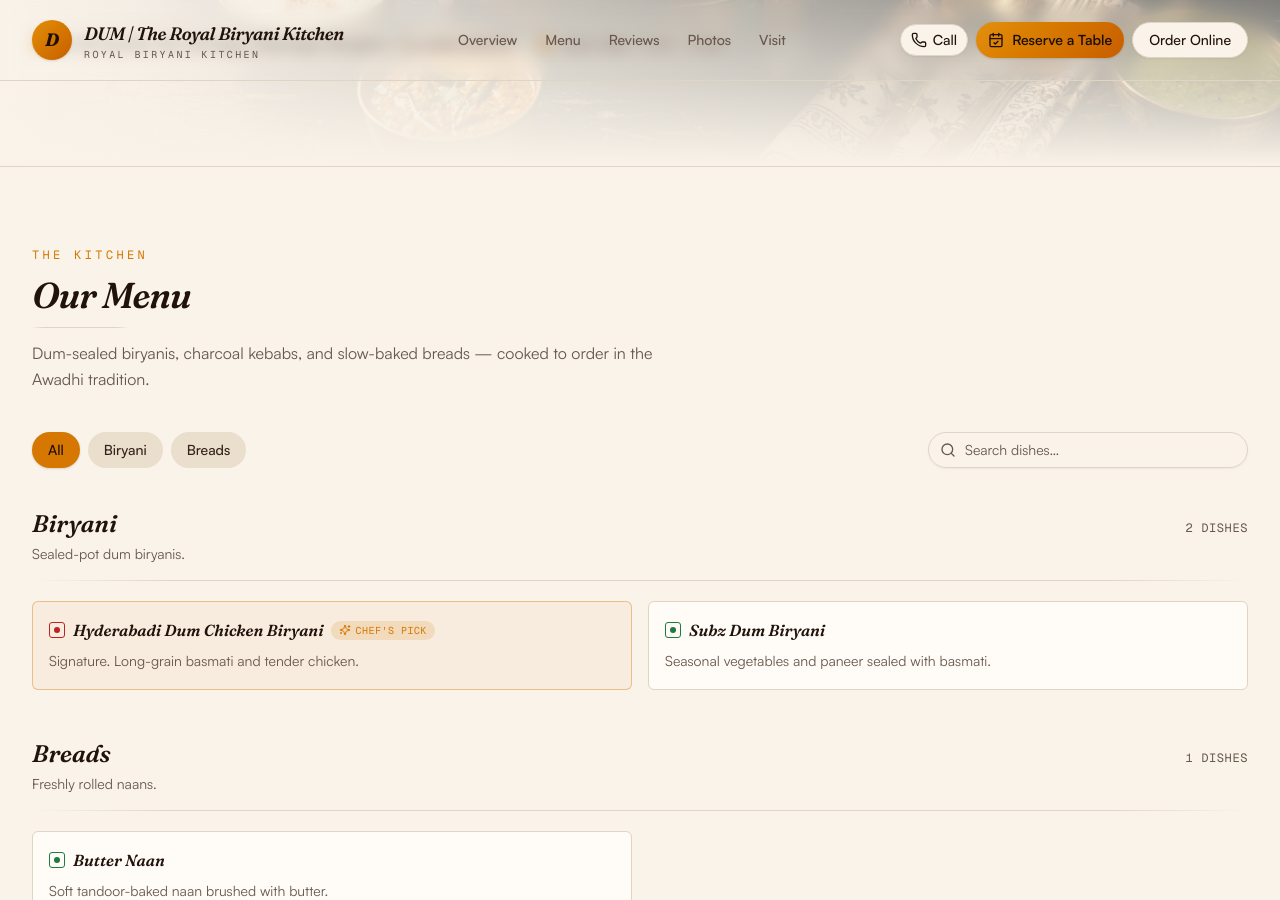
Menu reflow controls that survive price removal › shows the empty state for a query with no matches
(page scrolled)
Type "sushi" into the search field named "Search the menu".
click(1088, 450); type("sushi")  # box [928,432,1248,468]
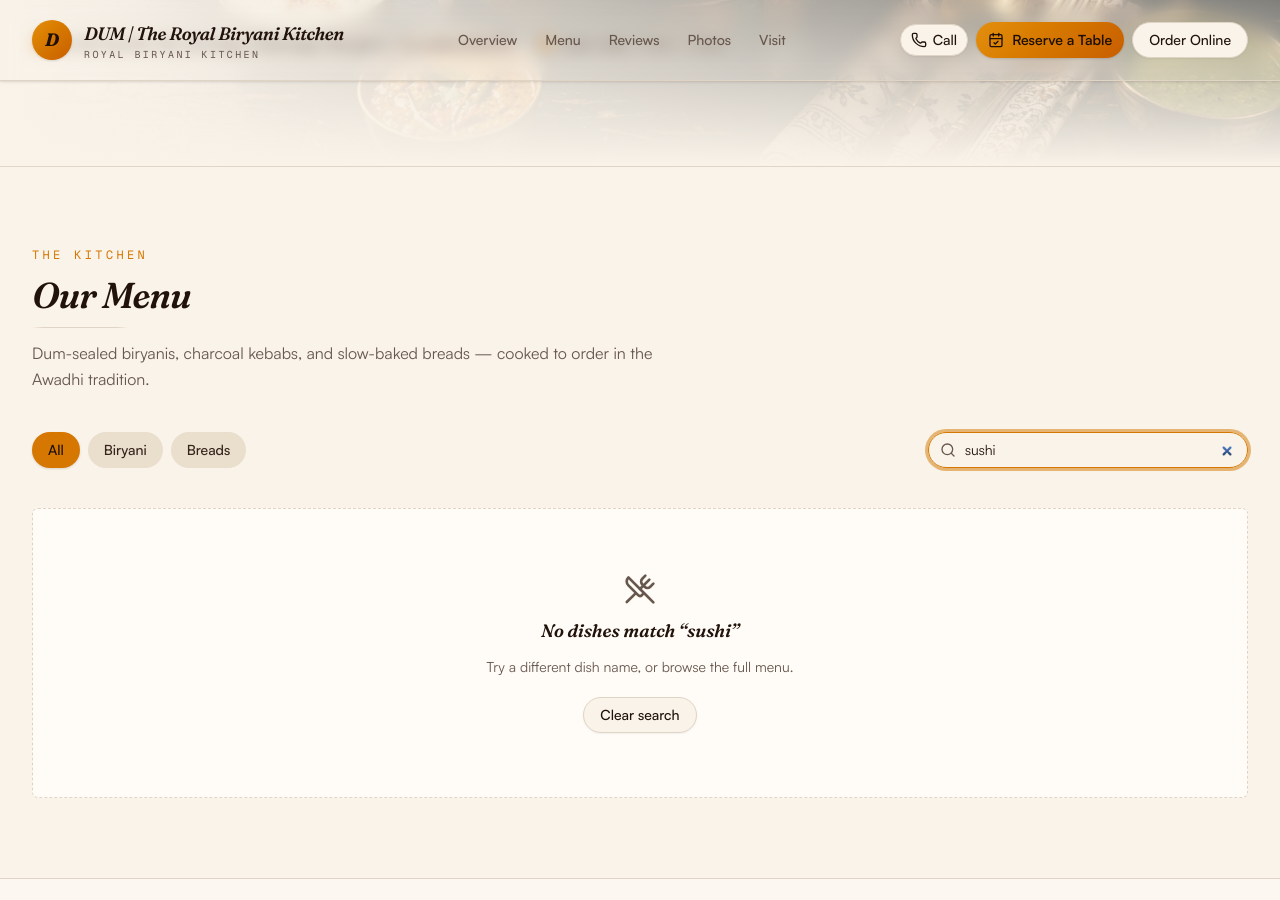
Check: the element with test id "menu.empty_state" is shown, box [32,508,1248,798]
